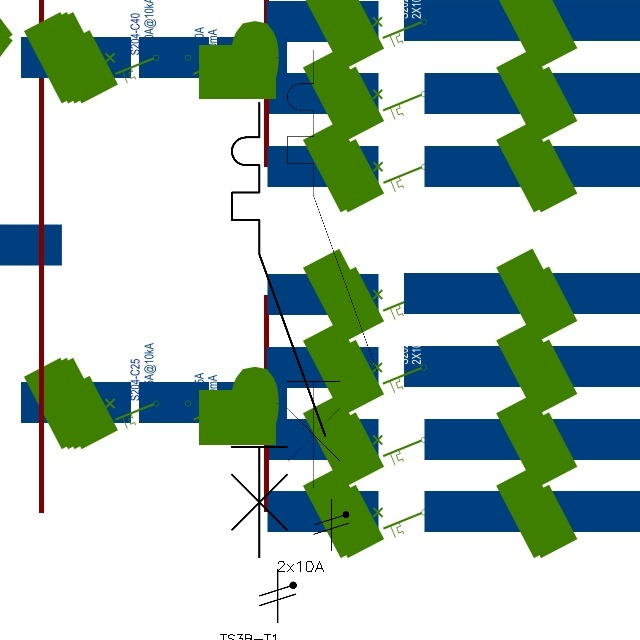interruptor_termomagnetico: (220, 91, 337, 569), (276, 39, 388, 498)
